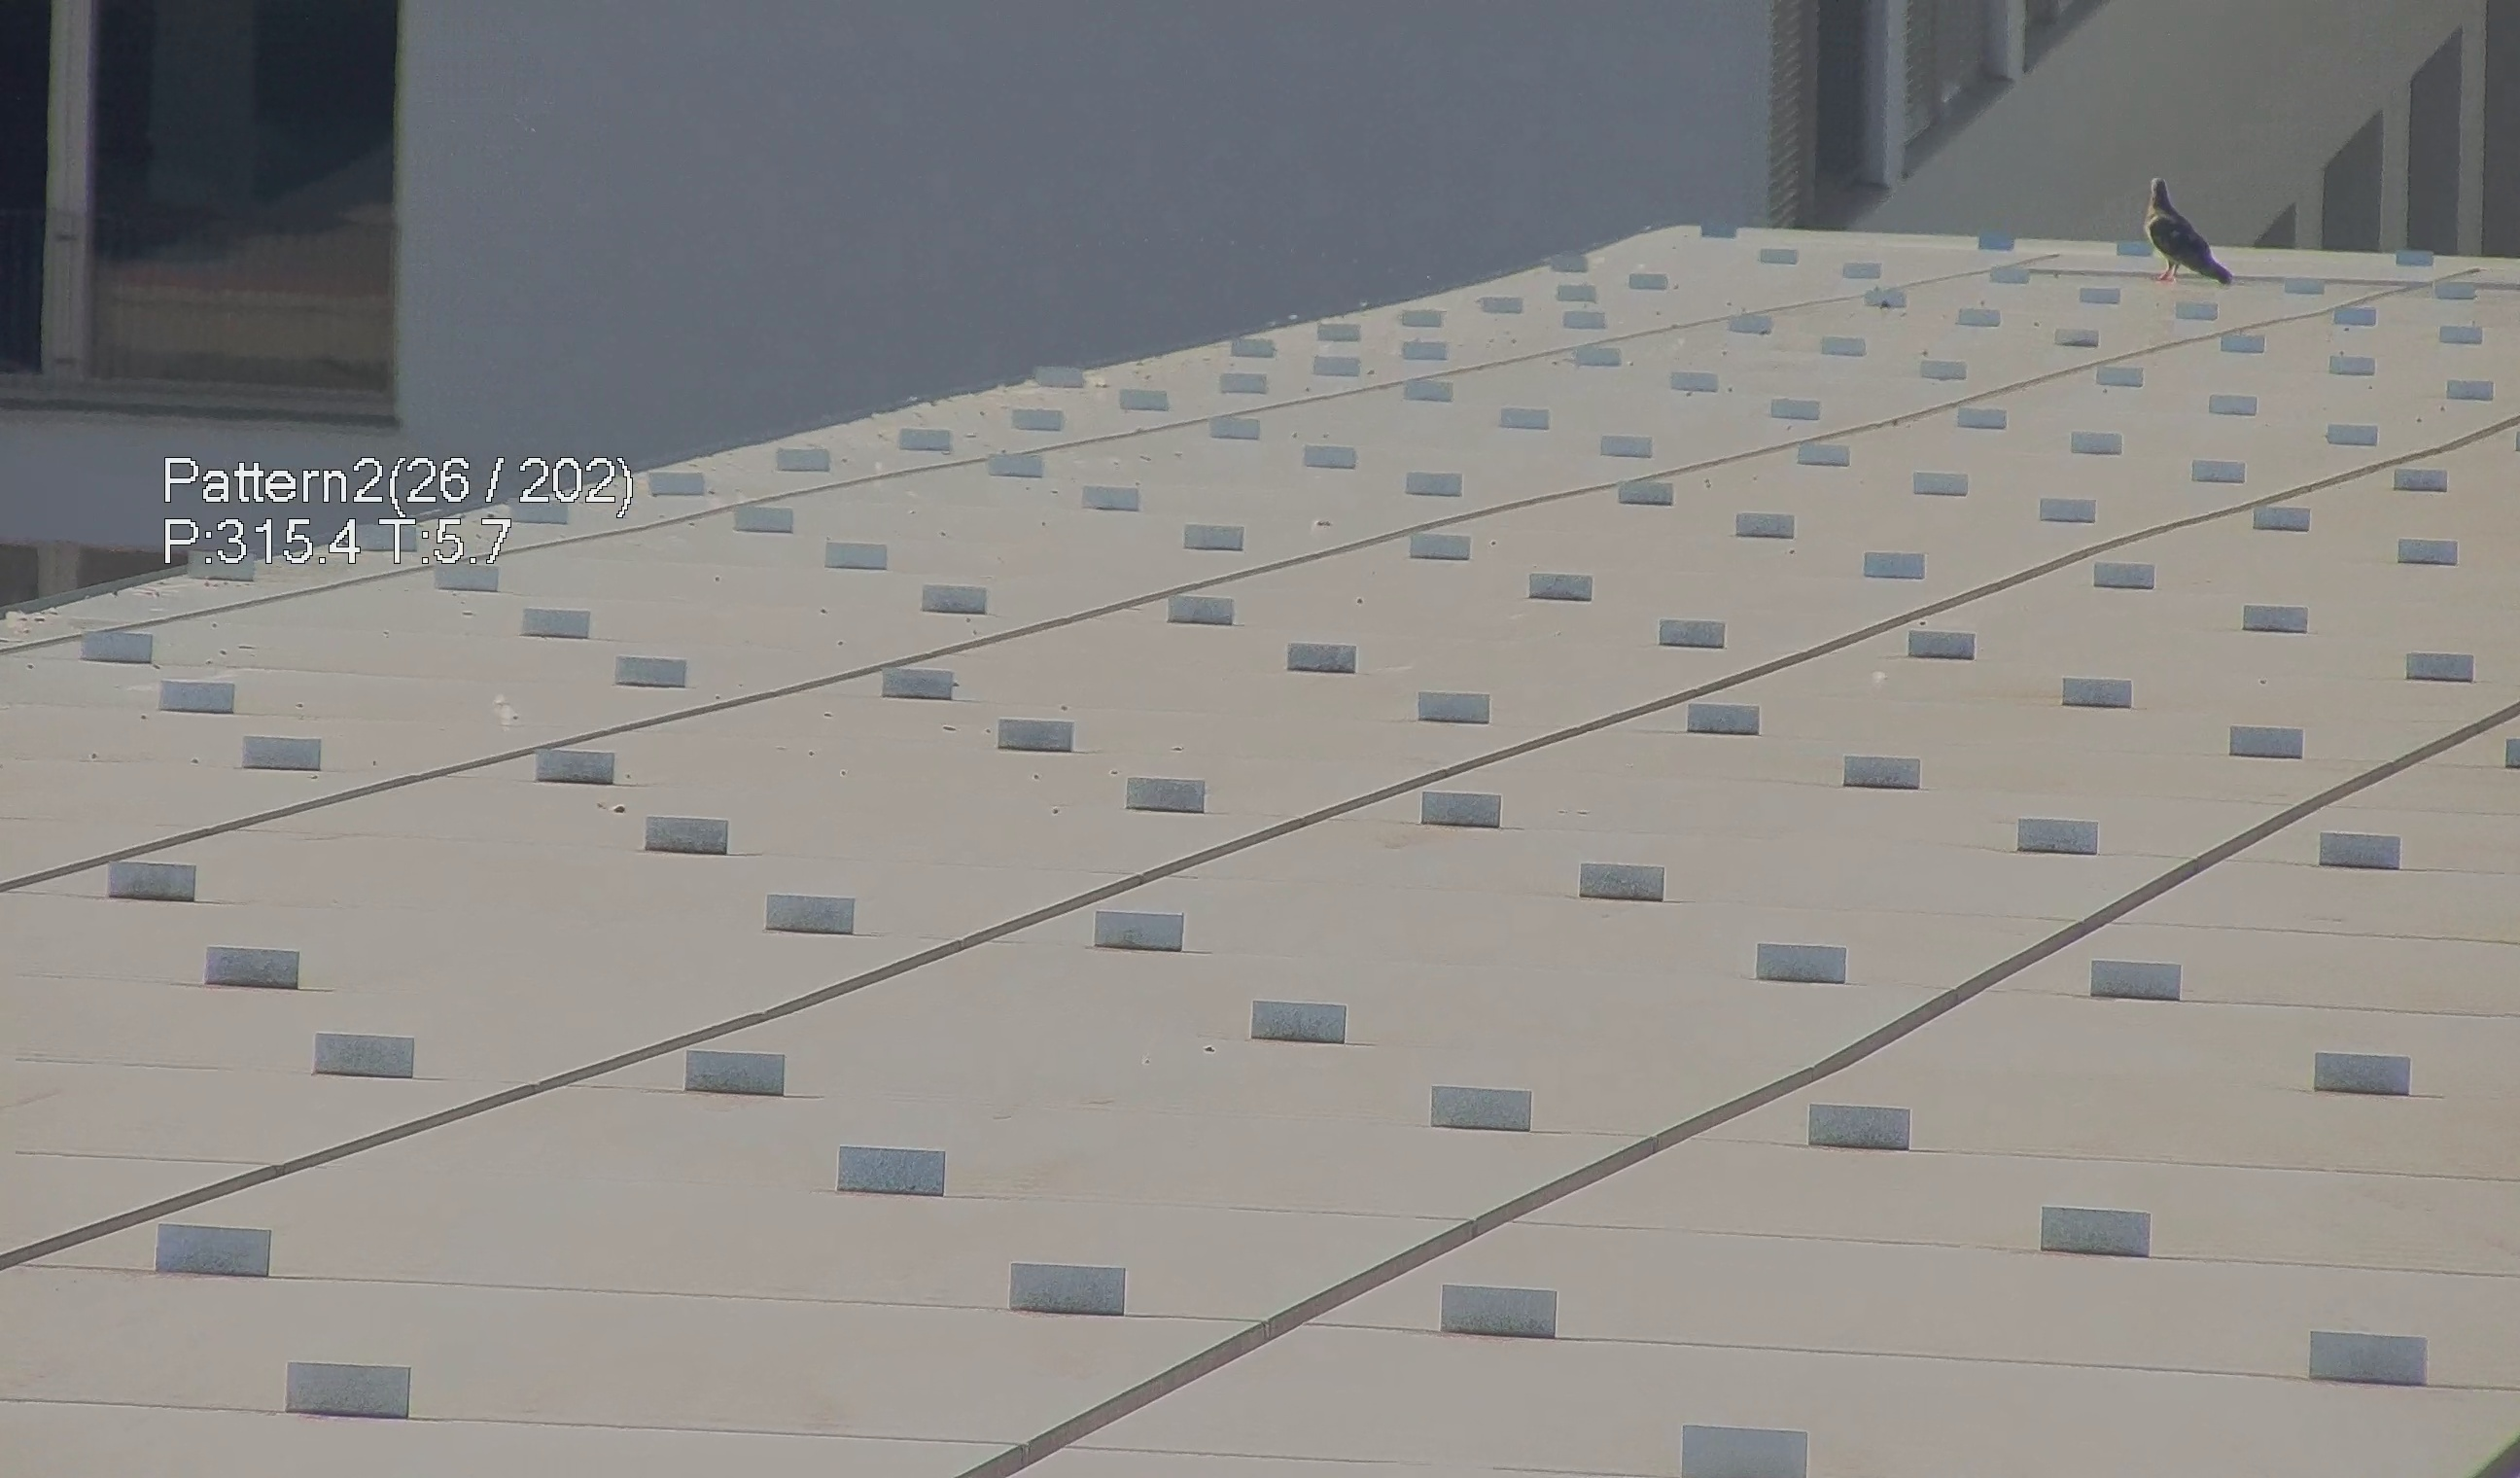Pigeon: (2145, 160, 2247, 297)
